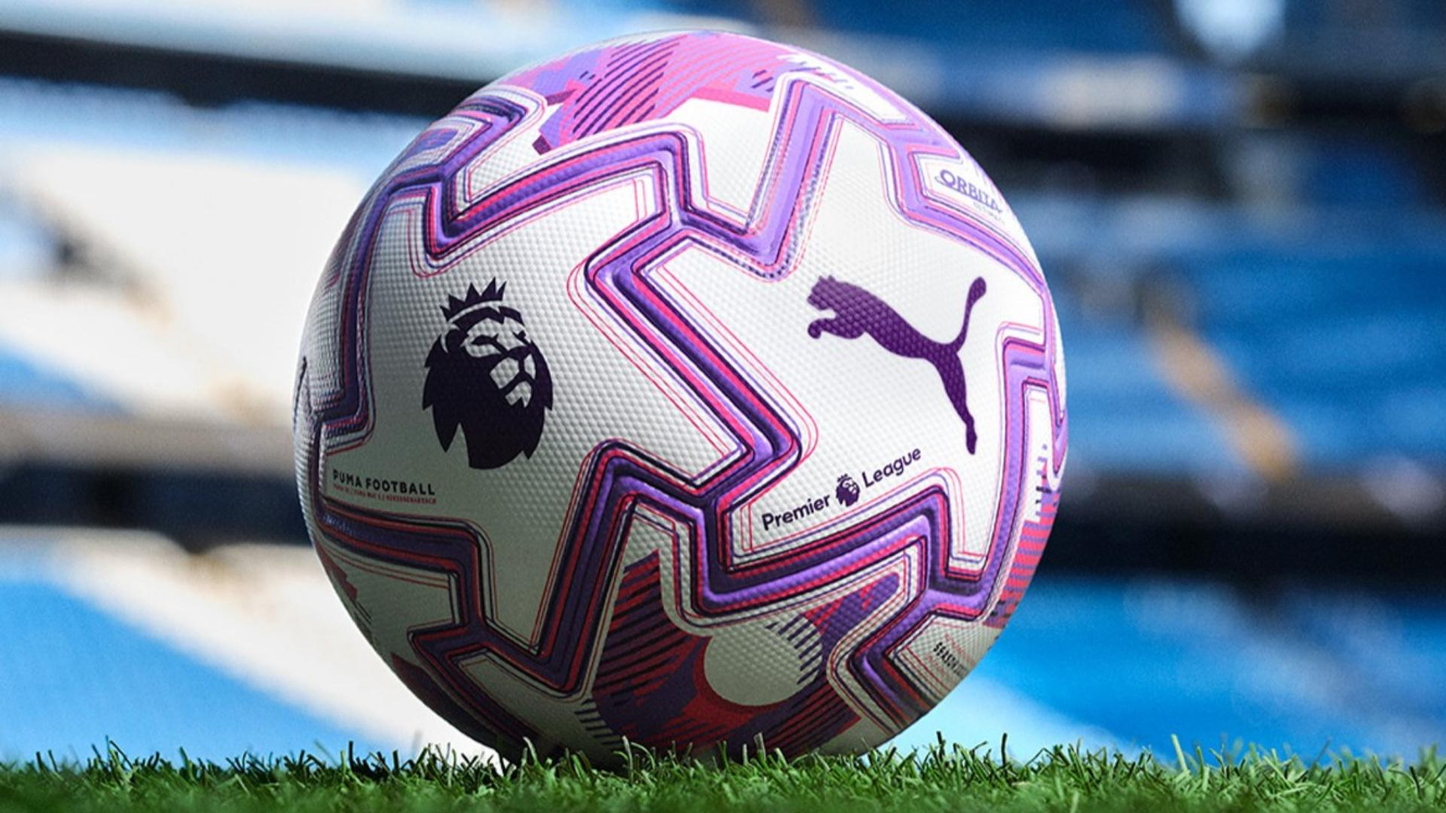ballon_football: (287, 25, 1069, 773)
